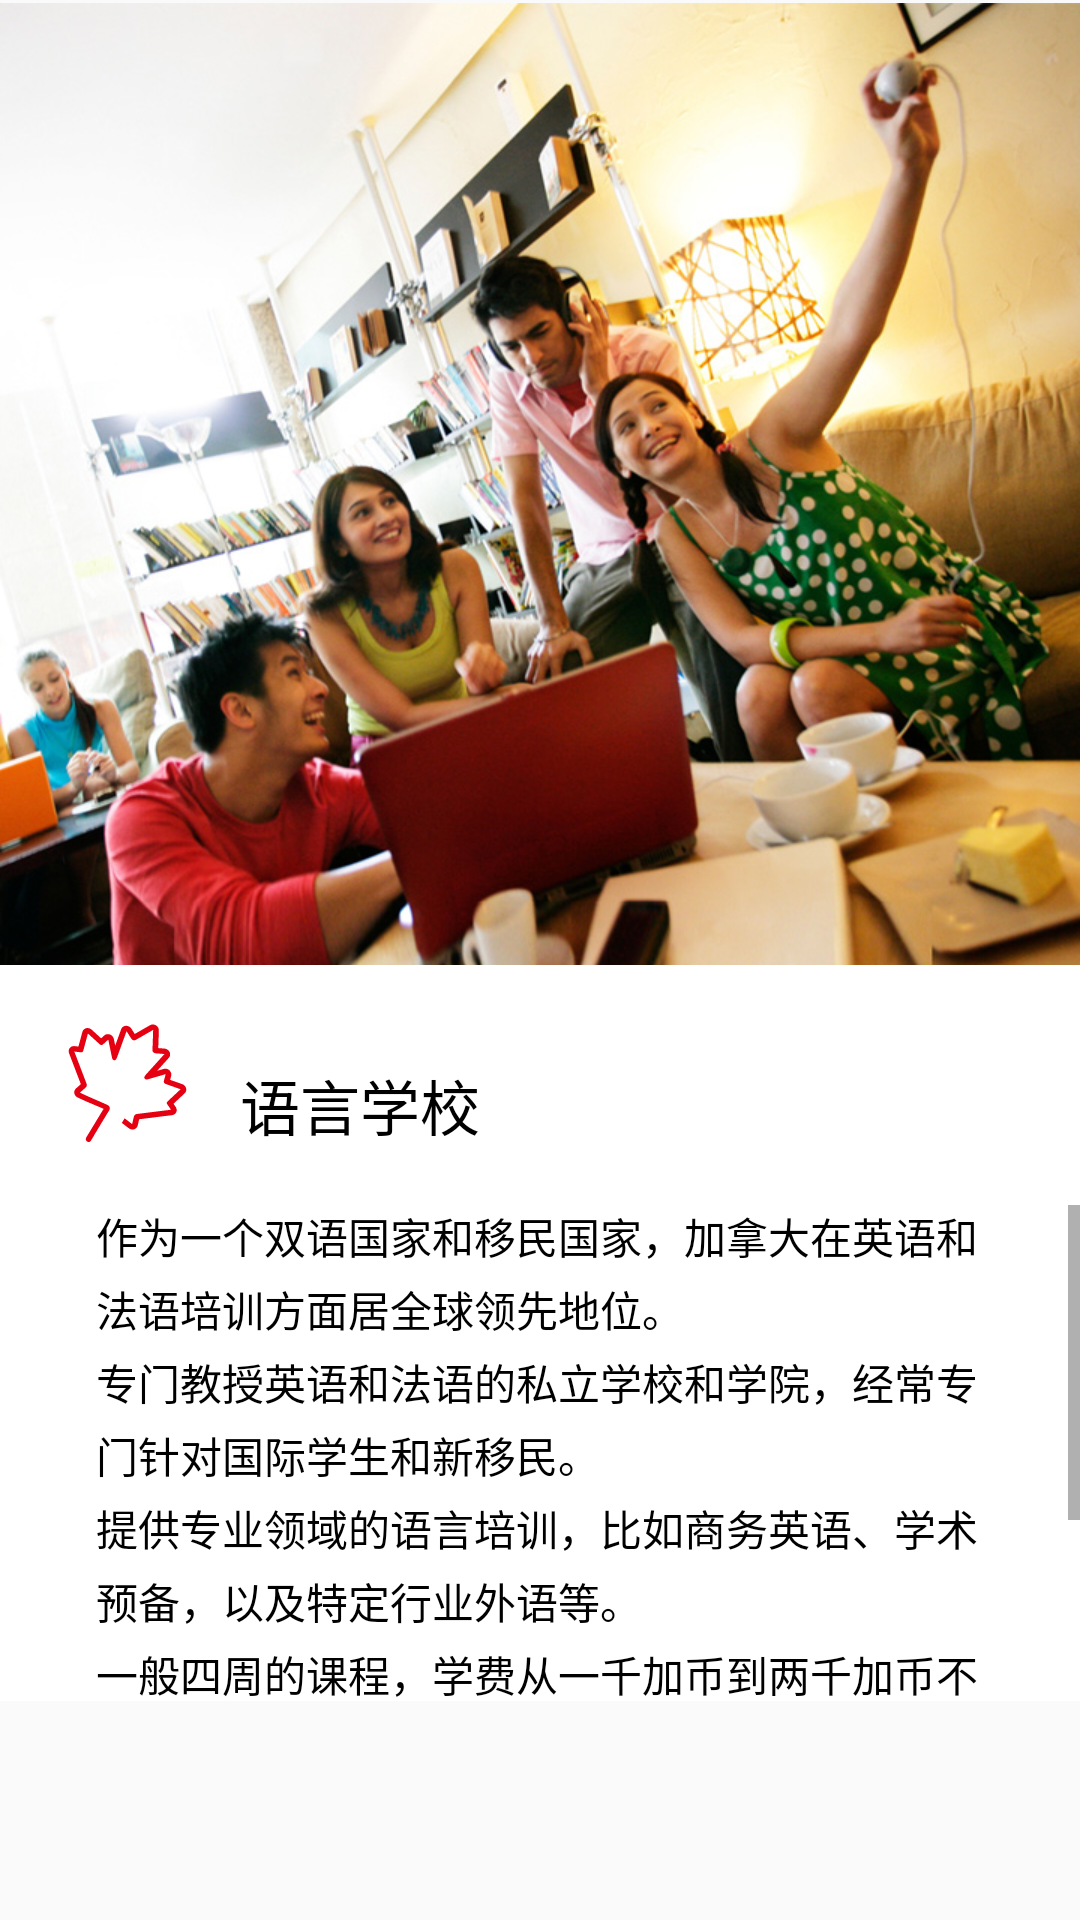

Screen size 1080*1920. Icon name, then its box in pixels as (x1, y1, x2, y2):
leaf: (68, 1024, 187, 1142)
